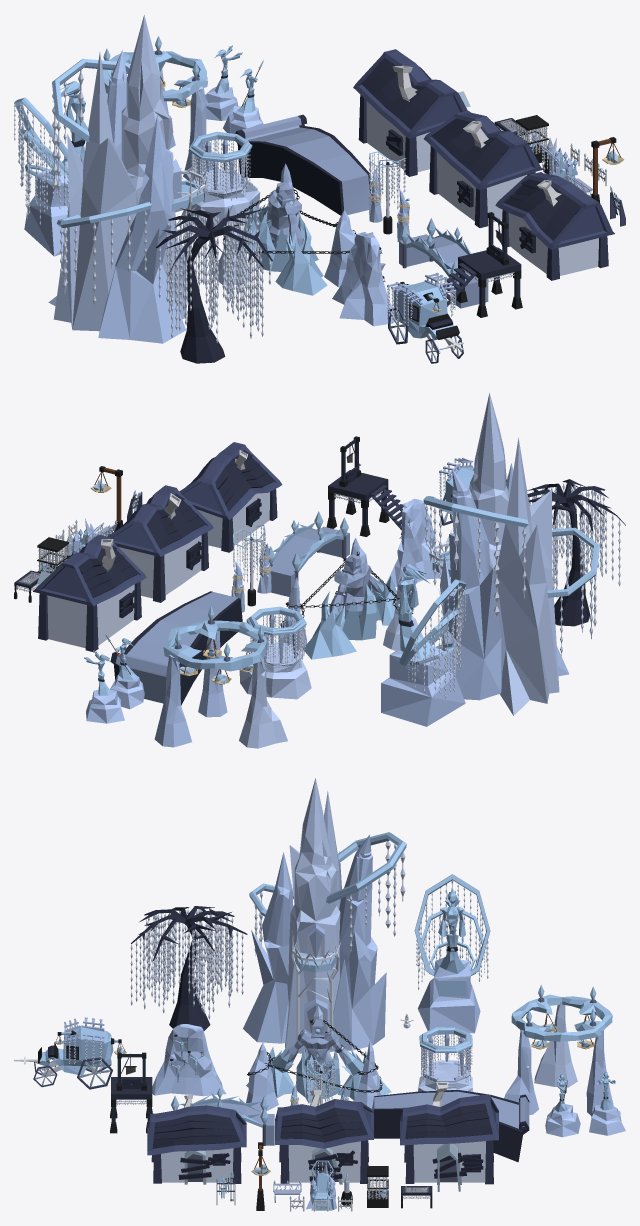
File: white queen.fbx
3 views of the same model, one above another, from view 1: azimuth 30°, elevation 25°; view 2: azimuth 150°, elevation 25°; view 3: azimuth 270°, elevation 25° (orthographic). The views are drawn at different scales.
Visible parts, largest first — view 1: Queen_castle, Broken_house_3, Broken_house_1, Broken_house_2, Carpet, War_golem, Tall_tree_deco, Big_statue, Tall_tree, Carriage, Kioske.001, Torture_wall (+15 smaller); view 2: Queen_castle, Broken_house_1, War_hall, Big_statue, Broken_house_2, War_golem, Broken_house_3, Carpet, Kioske.001, Crystal_bridge, Tall_tree, Guillotine (+13 smaller); view 3: Queen_castle, Broken_house_1, Broken_house_2, War_hall, Broken_house_3, War_golem, Big_statue, Tall_tree_deco, Carpet, Carriage, Torture_wall, Tall_tree (+10 smaller).
Boxes of the visible parts, x1,y1,x2,y2 form: Queen_castle: (48,15,207,343); Broken_house_3: (495,172,614,280); Broken_house_1: (353,49,470,176); Broken_house_2: (423,110,543,227); Carpet: (235,114,371,215); War_golem: (212,163,356,295); Tall_tree_deco: (158,210,270,343); Big_statue: (14,81,88,256); Tall_tree: (156,208,272,363); Carriage: (387,272,463,363); Kioske.001: (181,131,260,226); Torture_wall: (332,232,396,326); Queen_castle: (423,393,599,715); Broken_house_1: (33,534,146,652); War_hall: (154,605,287,748); Big_statue: (381,564,466,726); Broken_house_2: (107,485,213,602); War_golem: (278,537,423,659); Broken_house_3: (179,442,282,552); Carpet: (110,591,242,705); Kioske.001: (239,606,311,699); Crystal_bridge: (269,511,349,596); Tall_tree: (527,479,625,626); Guillotine: (326,436,403,536); Queen_castle: (243,778,406,1053); Broken_house_1: (400,1082,498,1191); Broken_house_2: (275,1090,373,1184); War_hall: (504,985,613,1115); Broken_house_3: (147,1094,246,1184); War_golem: (246,1006,391,1111); Big_statue: (414,874,490,1034); Tall_tree_deco: (130,908,243,1019); Carpet: (372,1090,529,1162); Carriage: (14,1017,126,1089); Torture_wall: (152,1024,226,1096); Tall_tree: (131,906,247,1030).
Size of the model in its own units: 5080 by 2657 by 5549.
